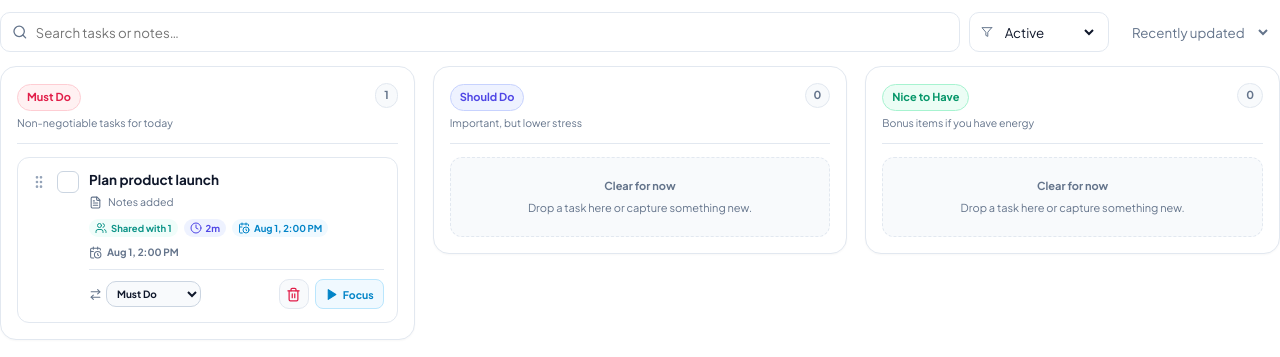
TaskBoard usability controls › filters tasks by title and note text
Type "checklist" into the field labelled "Search tasks" at (492, 32), box [36,24,948,40]
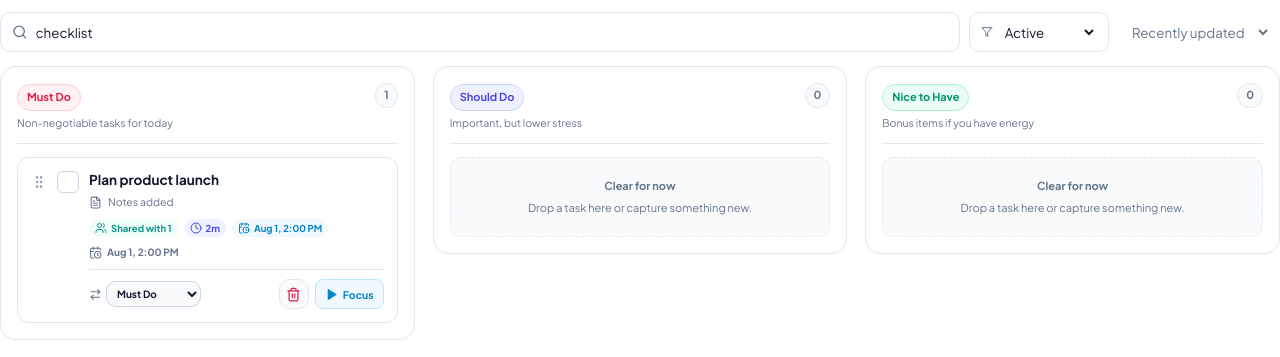
expect the heading "Plan product launch" is shown: met, box [89,171,219,188]
Replace the text in the field named "Search tasks" with "unrelated" at (492, 32), box [36,24,948,40]
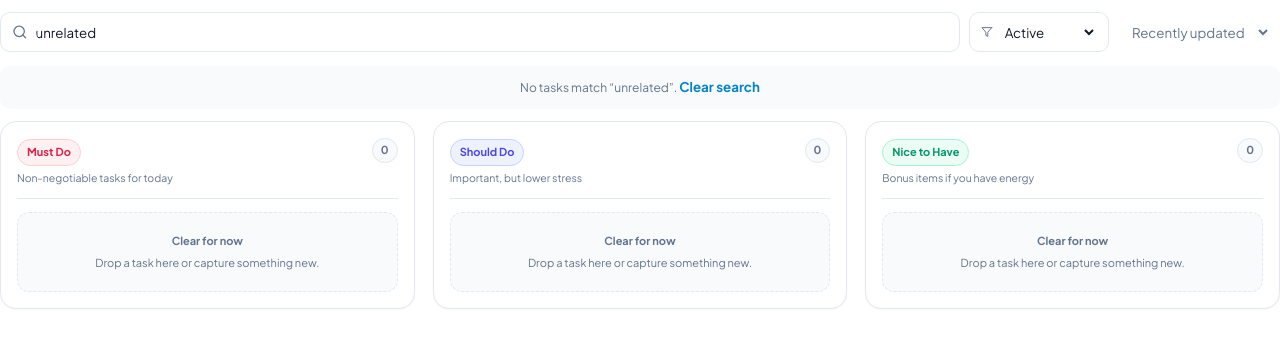
expect the heading "Plan product launch" is gone: met
expect the text "No tasks match “unrelated”. Clear search" is shown: met, box [0,66,1279,109]
